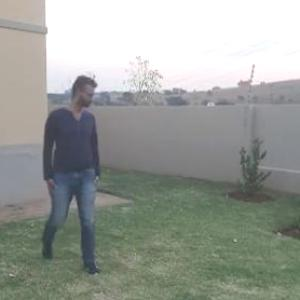follow: (42, 64, 118, 288)
